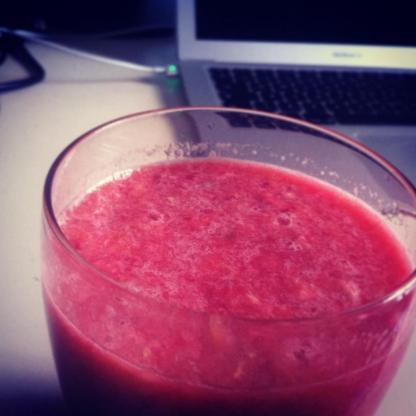board: (178, 0, 416, 212)
